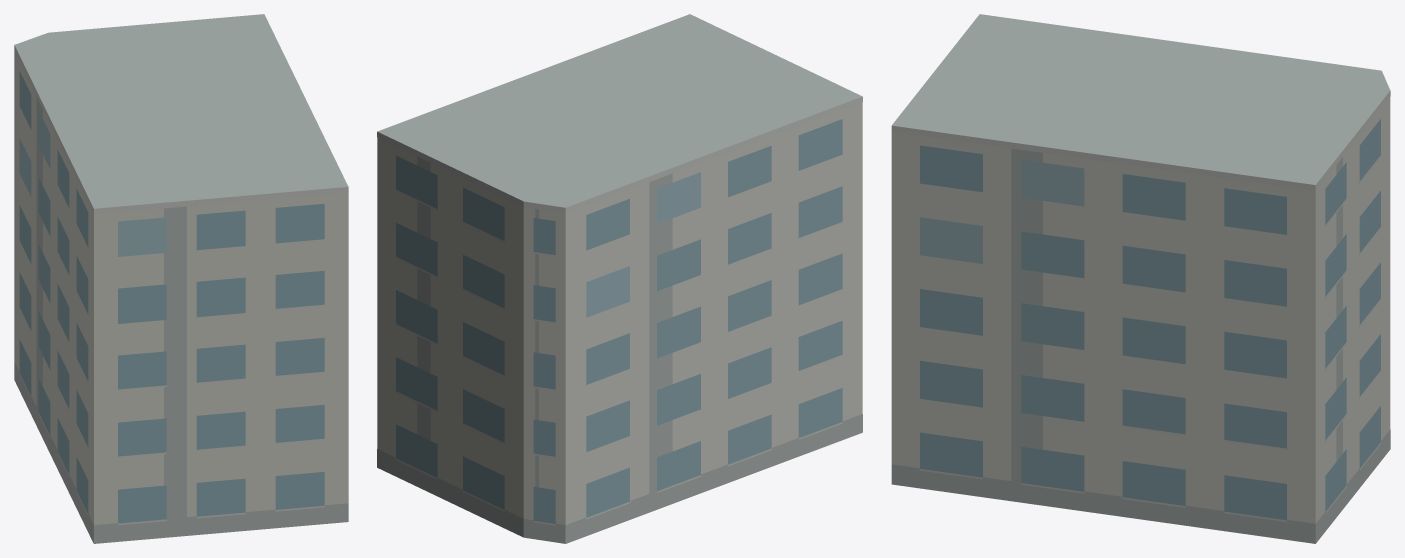
Rendered from survey-upis-32856153.glb.
3 views of the same model, side by side, from view 1: azimuth 30°, elevation 25°; view 2: azimuth 150°, elevation 25°; view 3: azimuth 270°, elevation 25° (orthographic). The views are drawn at different scales.
Visible parts, largest first — view 1: survey-upis-32856153.tmp; view 2: survey-upis-32856153.tmp; view 3: survey-upis-32856153.tmp.
Boxes of the visible parts, <box> form: survey-upis-32856153.tmp: <box>14,14,348,543</box>; survey-upis-32856153.tmp: <box>377,14,862,543</box>; survey-upis-32856153.tmp: <box>891,14,1390,543</box>.
Size of the model in its own units: 14.53 by 14.2 by 17.9.
